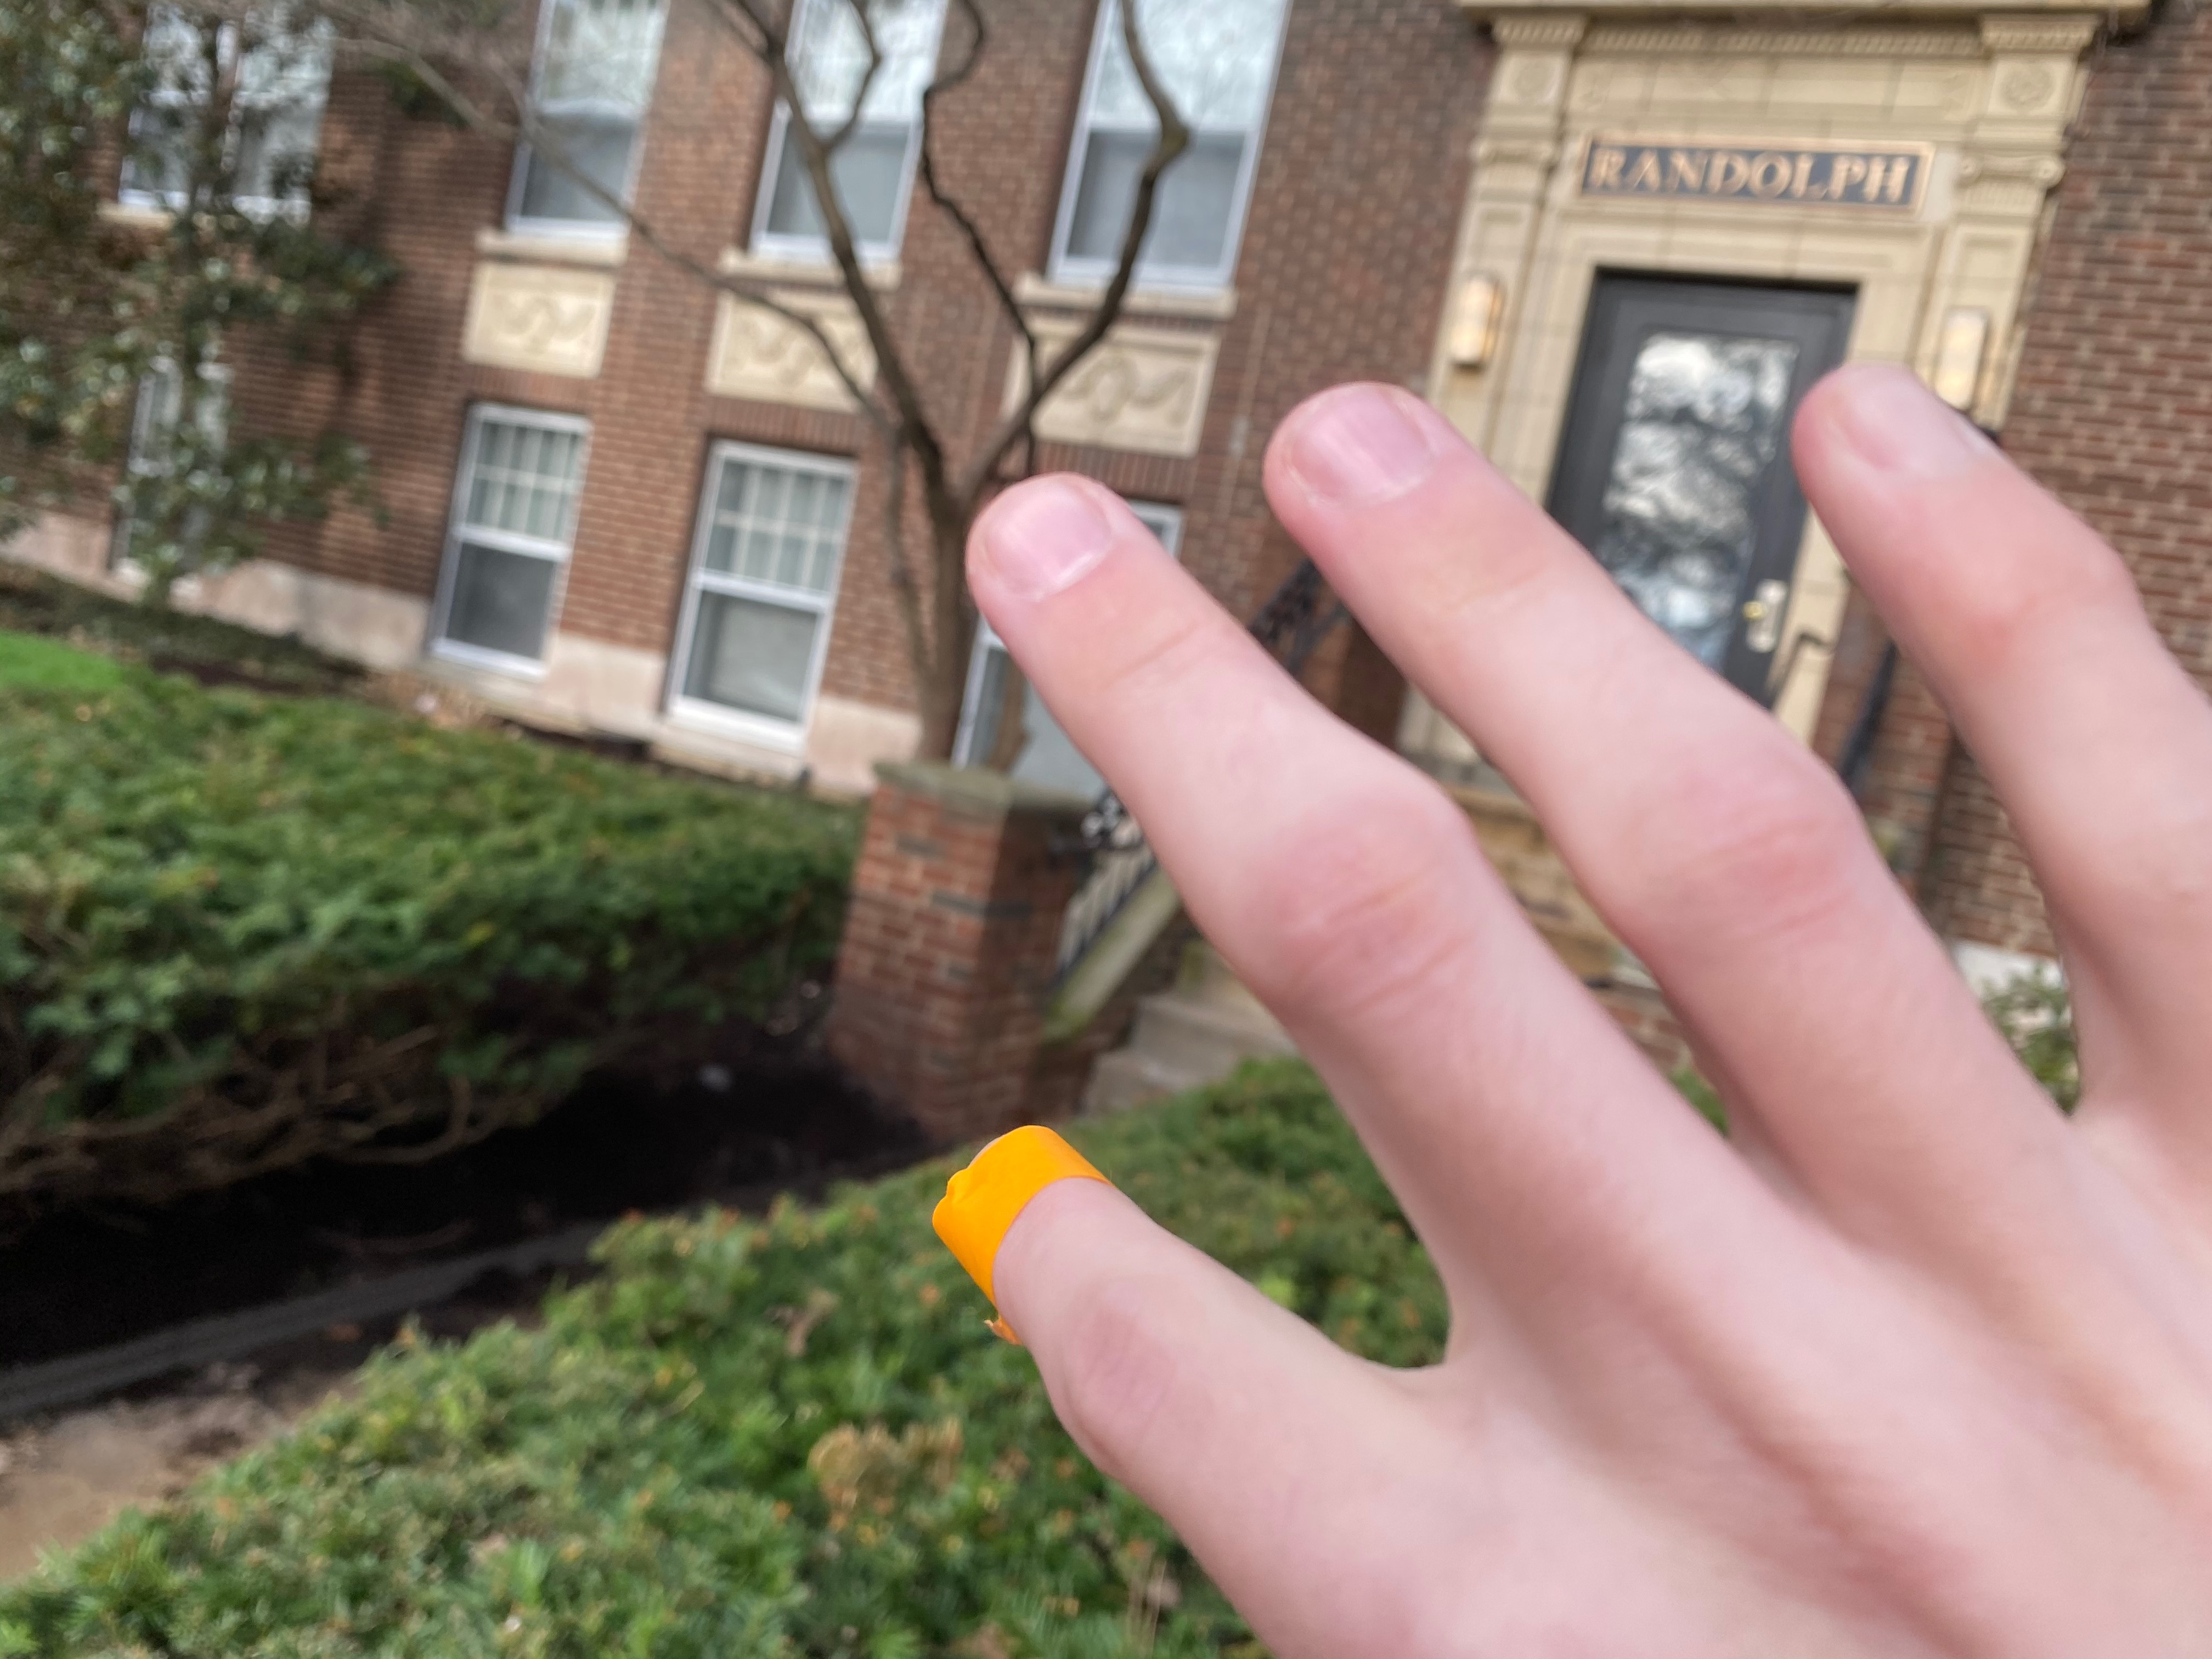fingertip: (911, 1110, 1190, 1371)
